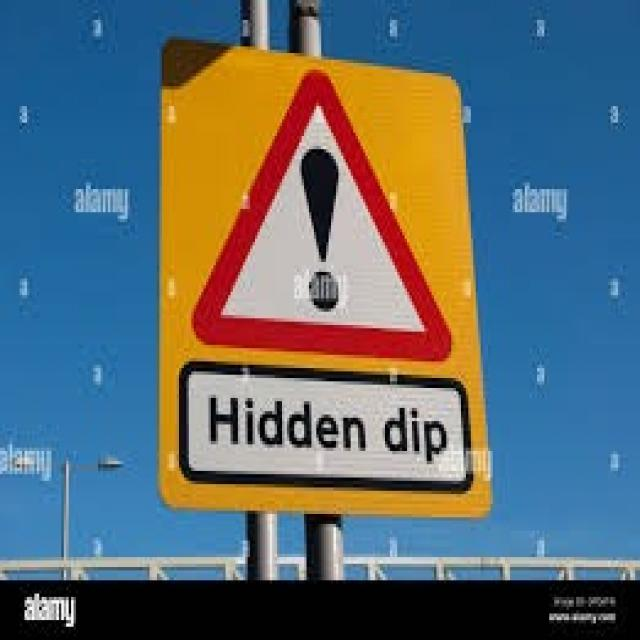warning: (188, 65, 456, 366)
